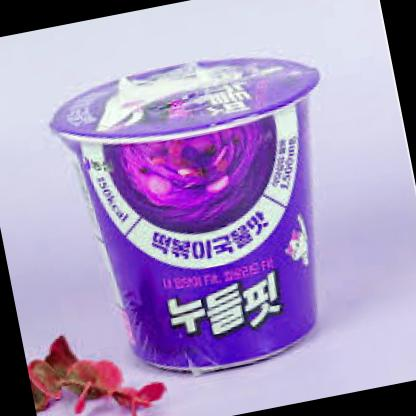Ramen: (22, 24, 398, 406)
